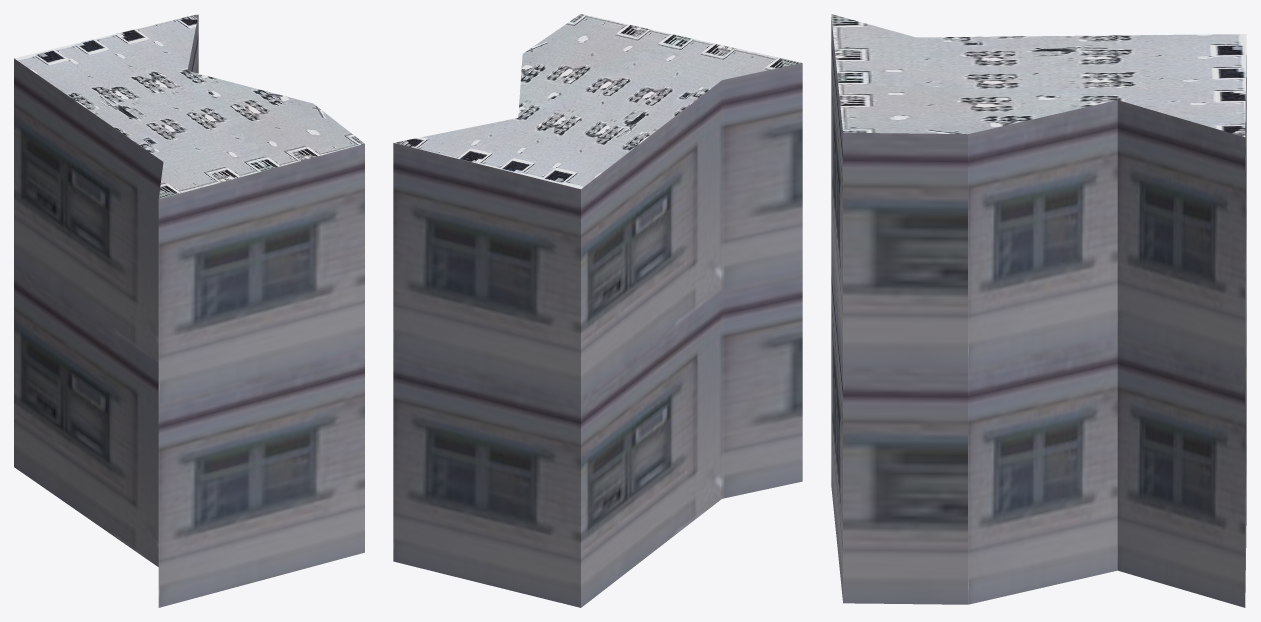
The model's file is ResTex__4654.fbx.
3 renders of one model, left to right at view 1: azimuth 30°, elevation 25°; view 2: azimuth 150°, elevation 25°; view 3: azimuth 270°, elevation 25°, orthographic. The views are drawn at different scales.
Parts seen in each view (by area): view 1: CityEngineMaterial_1_m, CityEngineMaterial_4_m; view 2: CityEngineMaterial_1_m, CityEngineMaterial_4_m; view 3: CityEngineMaterial_1_m, CityEngineMaterial_4_m.
Part boxes in pixels (<box>): CityEngineMaterial_1_m: <box>14,14,364,607</box>; CityEngineMaterial_4_m: <box>14,14,364,198</box>; CityEngineMaterial_1_m: <box>393,63,802,607</box>; CityEngineMaterial_4_m: <box>394,14,801,189</box>; CityEngineMaterial_1_m: <box>831,17,1246,607</box>; CityEngineMaterial_4_m: <box>831,14,1246,136</box>.
Size of the model in its own units: 3.37 by 6 by 4.8.
2 materials, 2 textured.
